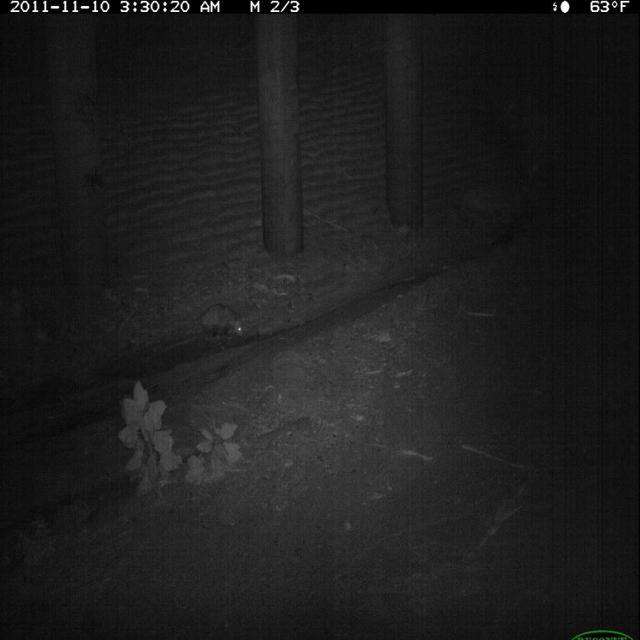opossum: (177, 301, 248, 342)
